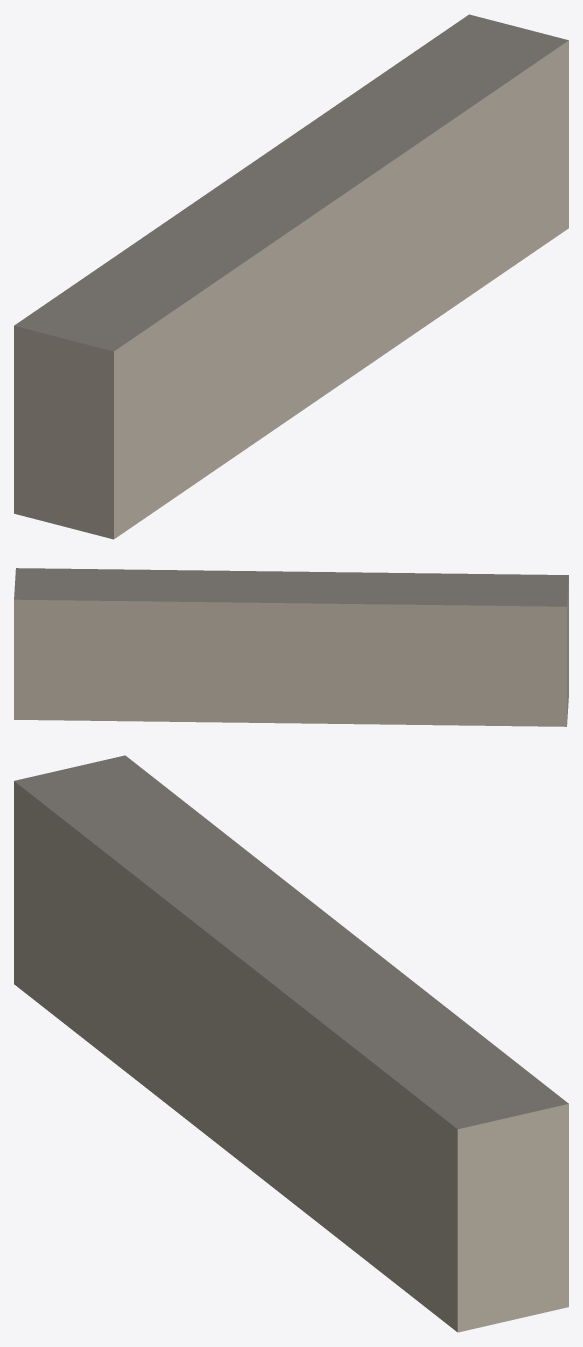
3 views of the same model, one above another, from view 1: azimuth 30°, elevation 25°; view 2: azimuth 150°, elevation 25°; view 3: azimuth 270°, elevation 25° (orthographic). The views are drawn at different scales.
Parts seen in each view (by area): view 1: HP-w1287260179; view 2: HP-w1287260179; view 3: HP-w1287260179.
Boxes of the visible parts, left/top/right/bottom form: HP-w1287260179: left=14, top=14, right=568, bottom=539; HP-w1287260179: left=14, top=568, right=568, bottom=726; HP-w1287260179: left=14, top=755, right=568, bottom=1332.
Bounding box in the file's own units: 71.02 × 18 × 44.54.
